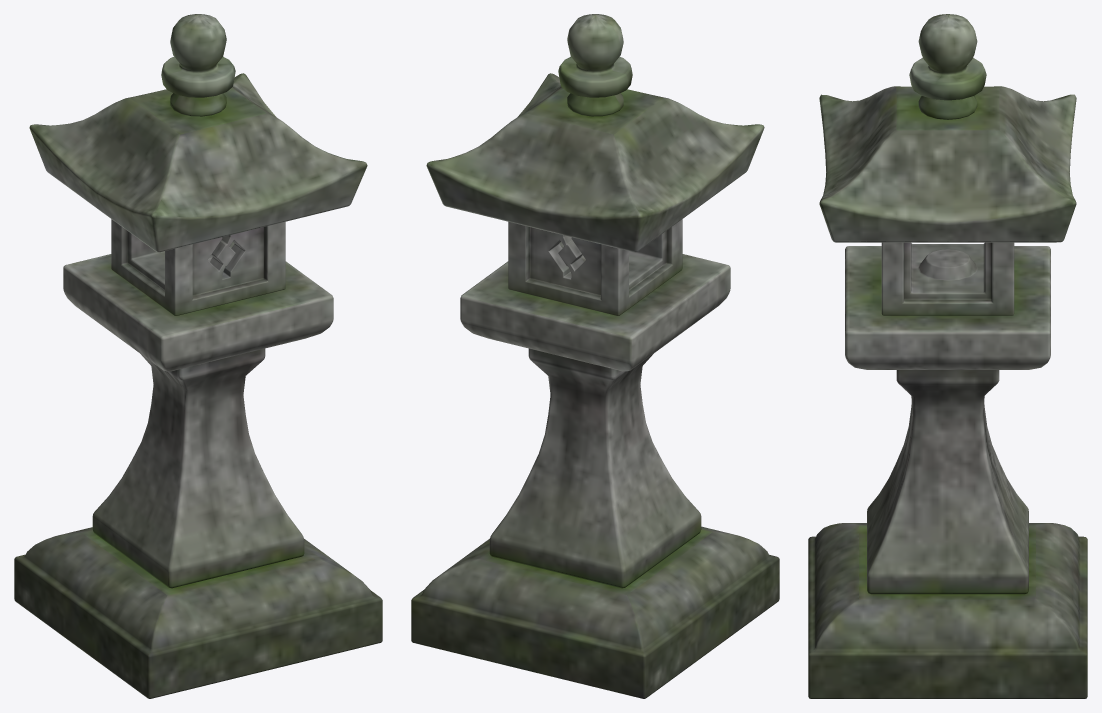
File: SM_JapaneseStoneLantern_aabedf.glb
The picture shows the model from 3 angles, left to right: view 1: azimuth 30°, elevation 25°; view 2: azimuth 150°, elevation 25°; view 3: azimuth 270°, elevation 25°; orthographic projection. The views are drawn at different scales.
Size of the model in its own units: 0.38 by 0.9393 by 0.38.
1 material, 1 textured.
